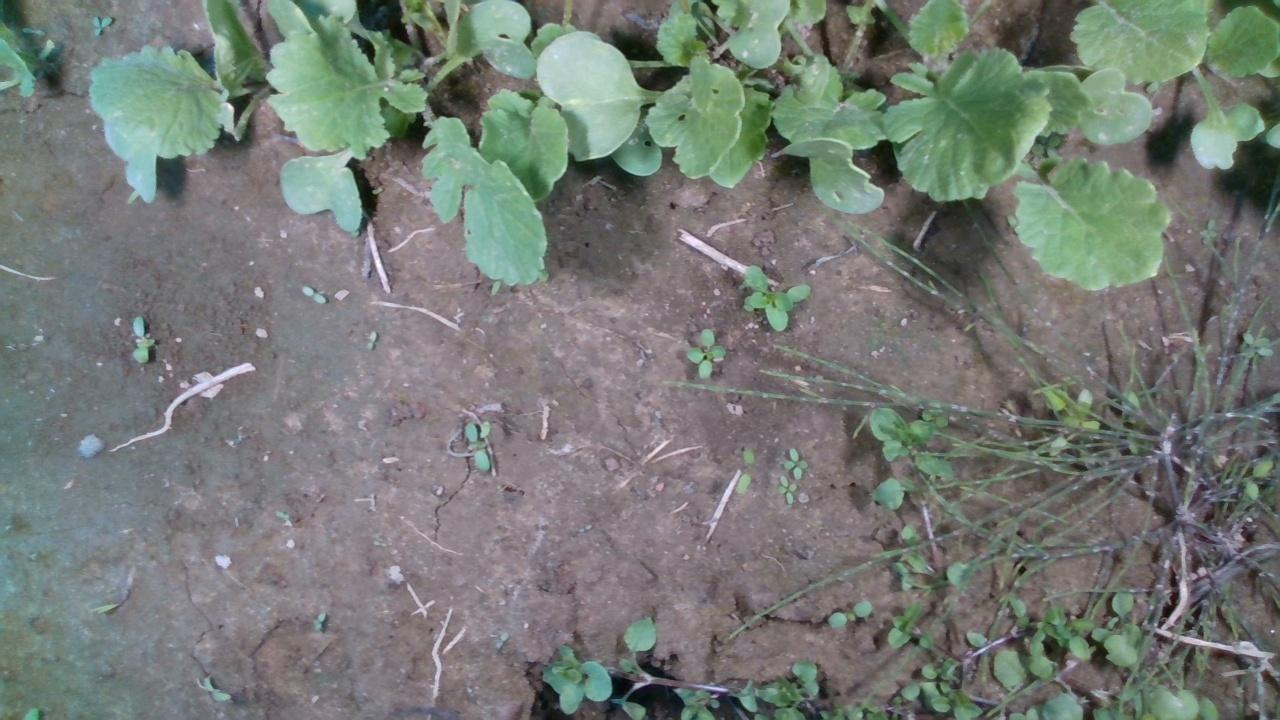weed: (684, 326, 725, 378), (131, 313, 153, 363), (734, 442, 754, 495), (203, 675, 230, 702), (299, 284, 325, 303), (91, 13, 112, 35), (311, 609, 326, 630), (364, 328, 377, 351)
